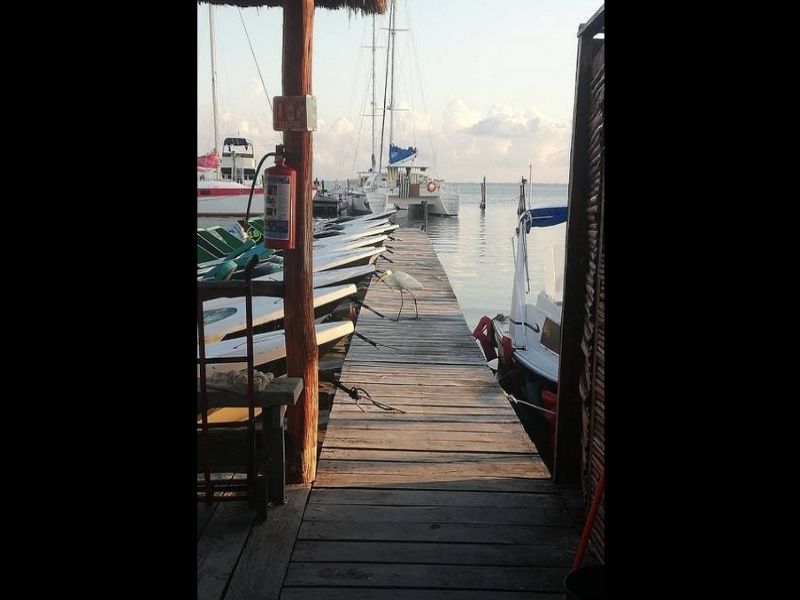heron: (376, 266, 428, 326)
